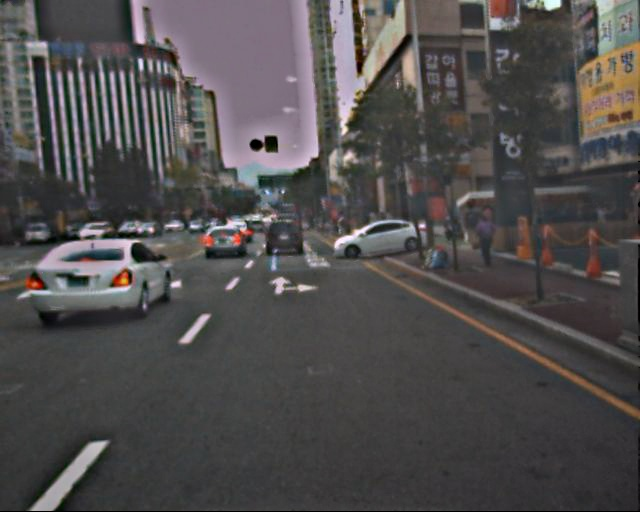person: (474, 211, 497, 267), (462, 199, 483, 250)
